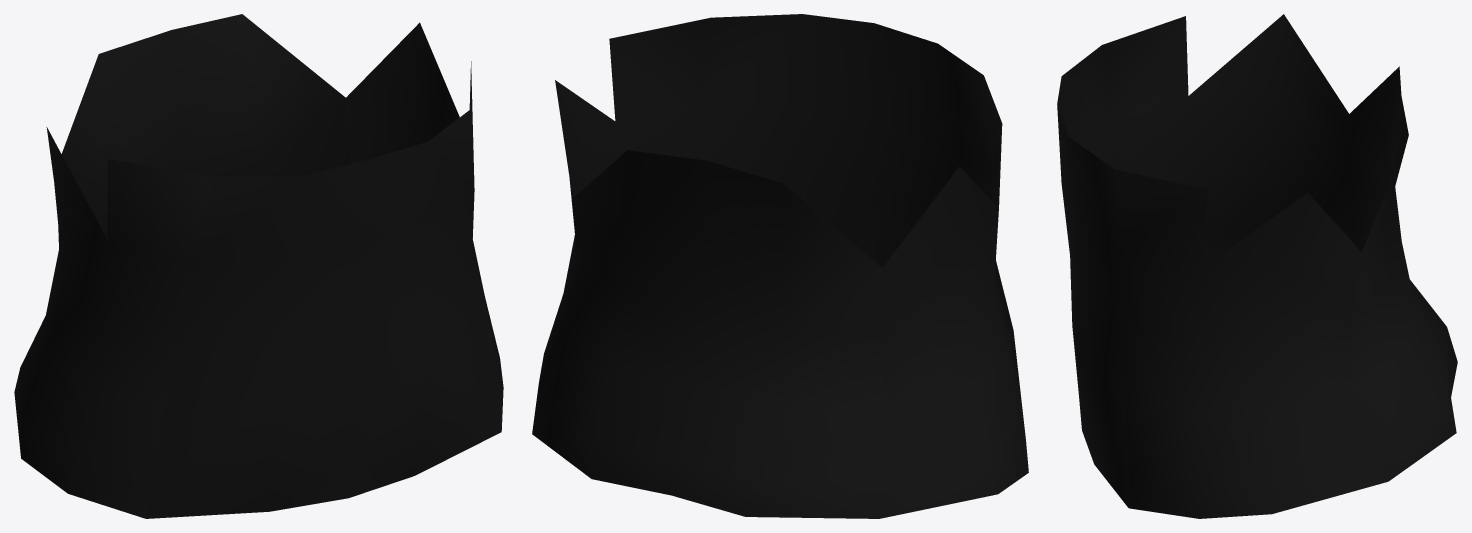
The model's file is spine.glb.
3 views of the same model, side by side, from view 1: azimuth 30°, elevation 25°; view 2: azimuth 150°, elevation 25°; view 3: azimuth 270°, elevation 25° (orthographic). The views are drawn at different scales.
Visible parts, largest first — view 1: sweater-black_SPINE; view 2: sweater-black_SPINE; view 3: sweater-black_SPINE.
Boxes of the visible parts, x1=… form: sweater-black_SPINE: x1=14, y1=14, x2=503, y2=518; sweater-black_SPINE: x1=532, y1=14, x2=1028, y2=518; sweater-black_SPINE: x1=1057, y1=14, x2=1457, y2=518.
Size of the model in its own units: 0.423 by 0.3105 by 0.3409.
1 material, 1 textured.
